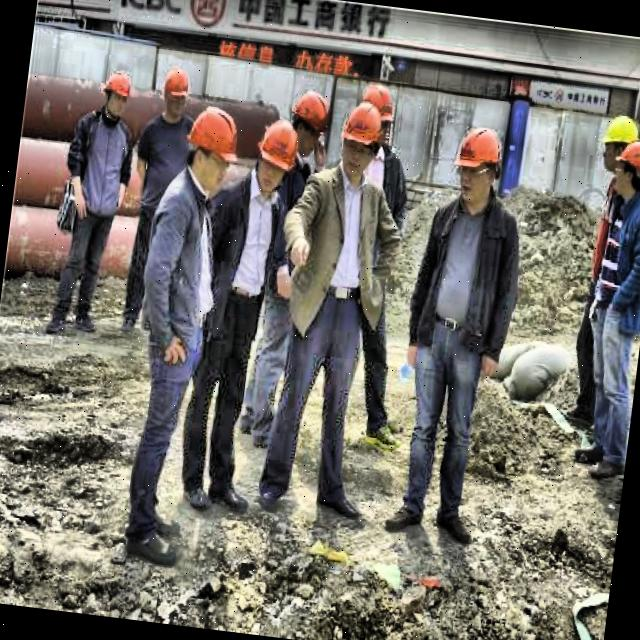helmet: (448, 121, 508, 212), (180, 104, 241, 193), (335, 100, 389, 180), (248, 117, 299, 197), (287, 90, 332, 162), (358, 76, 402, 148), (596, 110, 640, 174), (155, 64, 194, 124), (98, 67, 134, 121), (618, 138, 640, 200)
